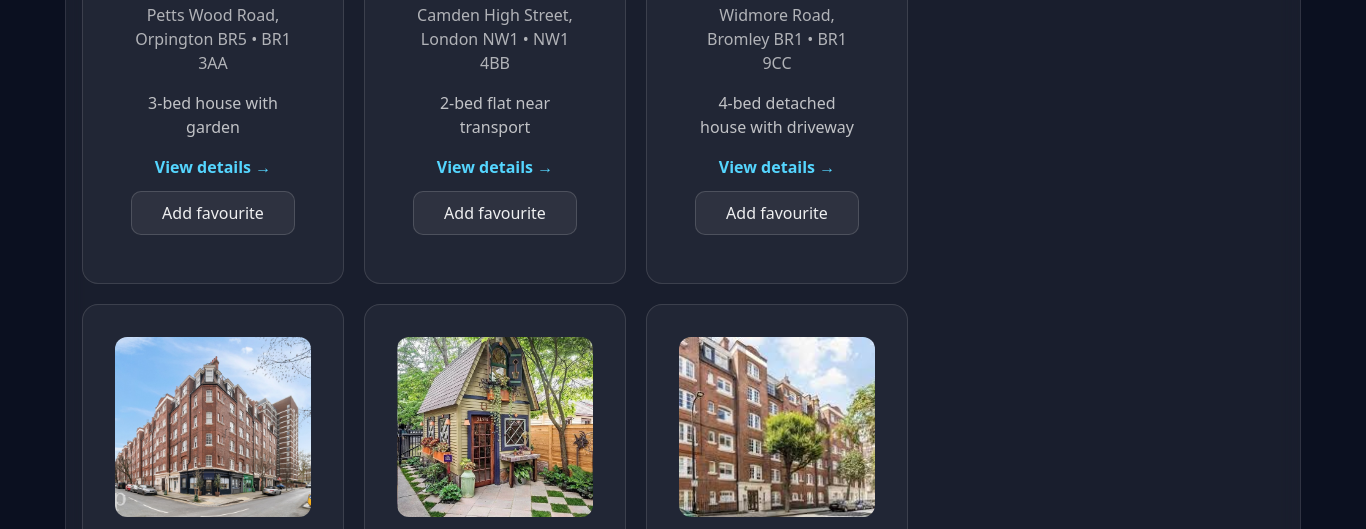
Scenario: clear favourites works
(page scrolled)
// click favourites for p1 and p2 from results list
Click the button with test id "fav-btn-p1". click: x=213, y=213
box: x1=131 y1=191 x2=295 y2=235
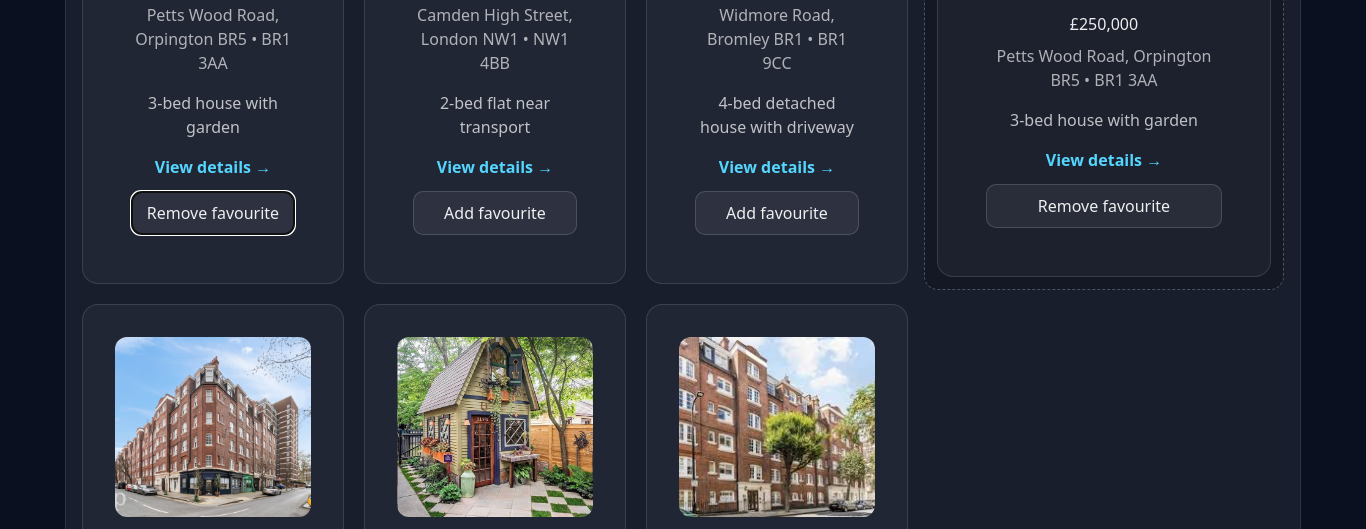
Click the button with test id "fav-btn-p2". click: x=495, y=213
box: x1=413 y1=191 x2=577 y2=235
(page scrolled)
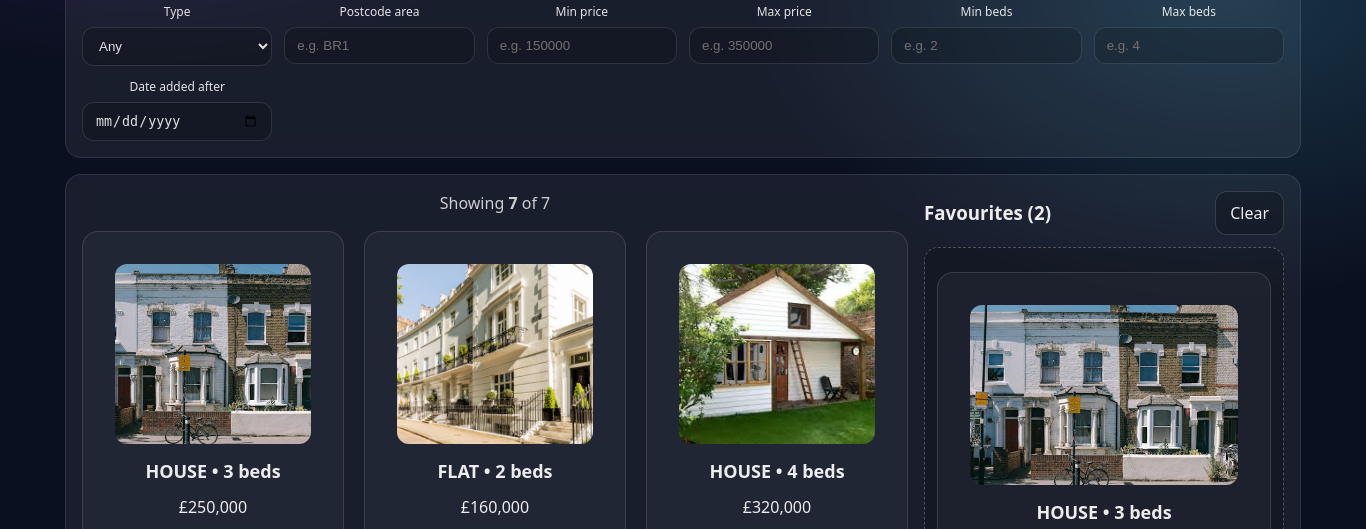
Click the button "Clear". click: x=1250, y=213
box: x1=1215 y1=191 x2=1284 y2=235
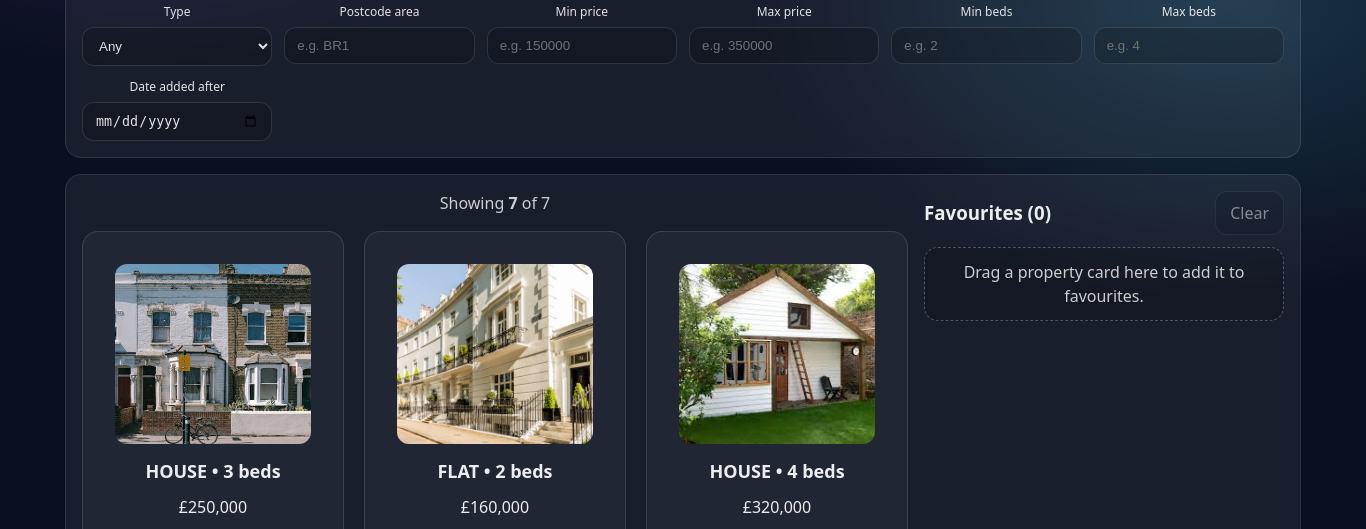
Check: the heading "Favourites (0)" is shown, box x1=924 y1=199 x2=1051 y2=227
